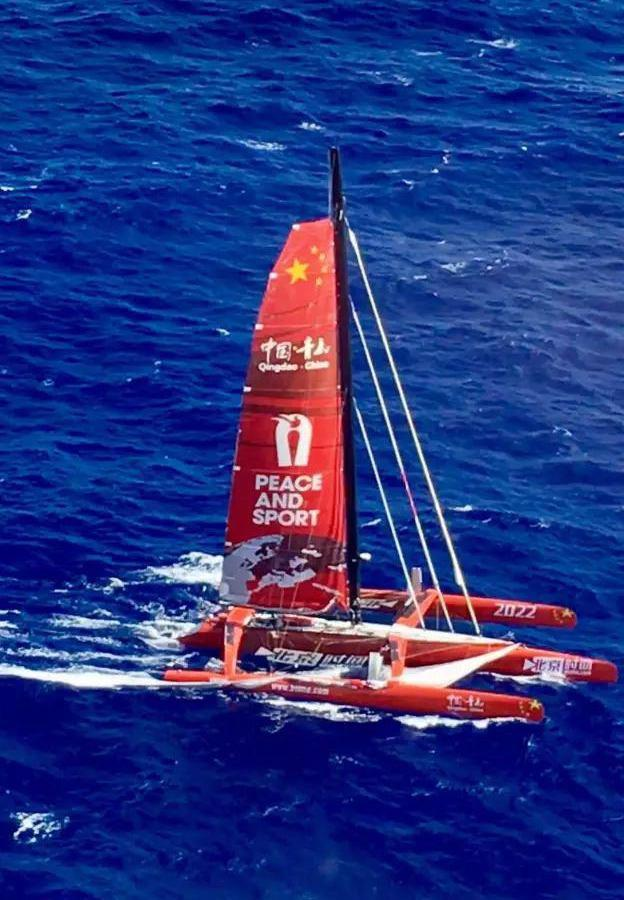fanchuan: (145, 152, 600, 730)
